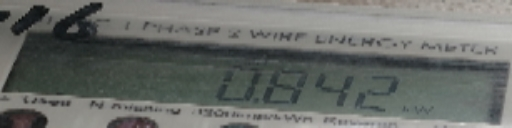0: (189, 64, 264, 105)
2: (355, 60, 397, 113)
4: (309, 61, 352, 112)
8: (264, 61, 312, 111)
d: (252, 94, 260, 104)
